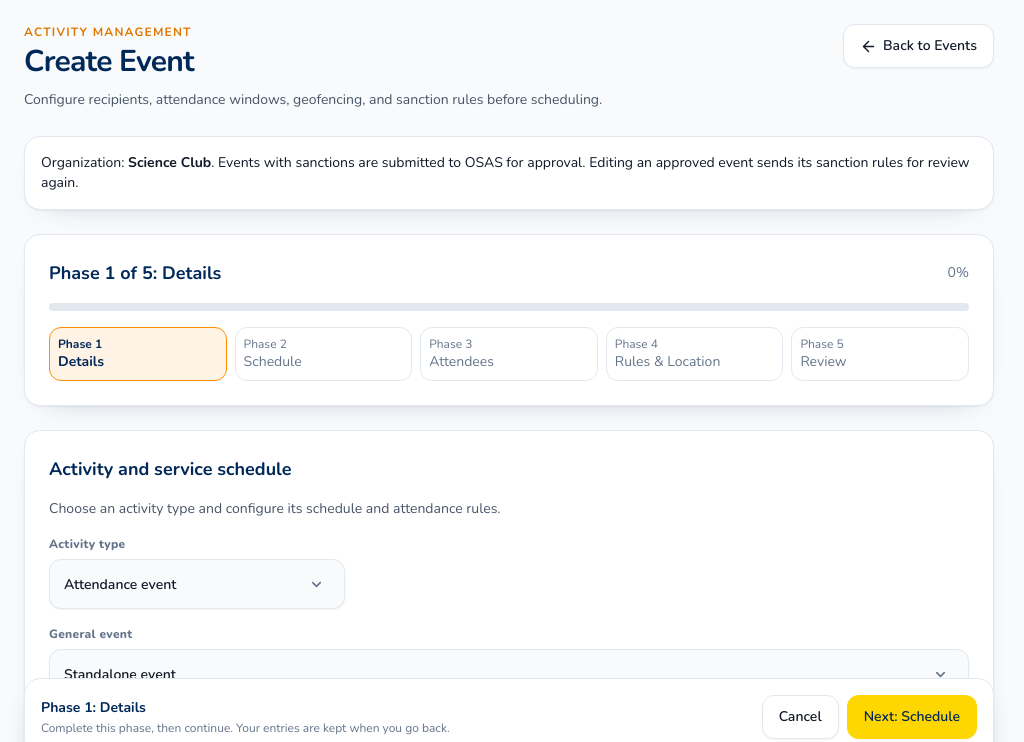
Scenario: heads get organization recipients and merit creation without general event privileges
This screenshot has width=1024, height=742.
Click the button named "Activity type": (120, 584) [49,559,345,609]
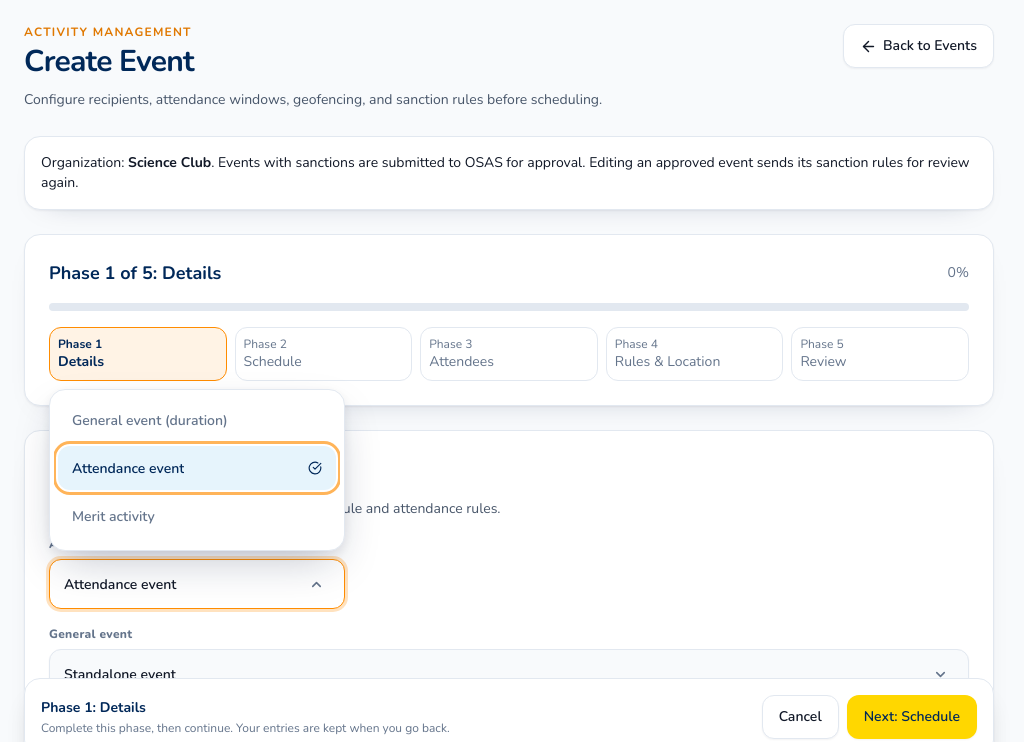
Expected: the option "Merit activity" is shown, [58,494,336,538]
